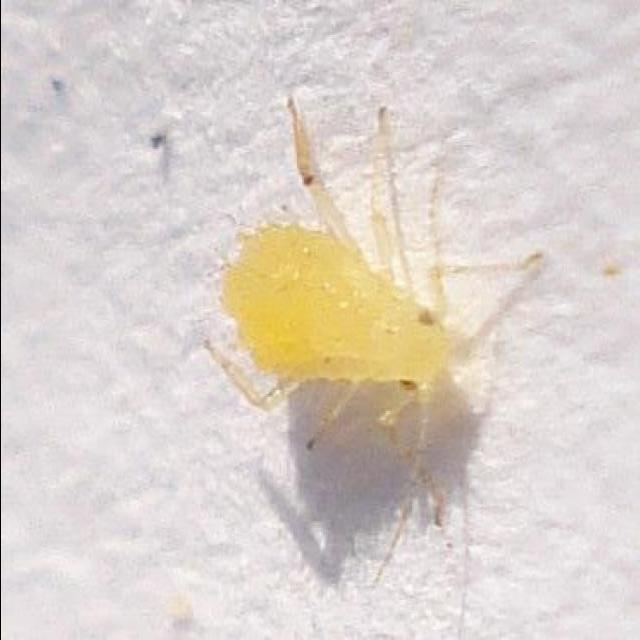aphid: (216, 159, 474, 457)
